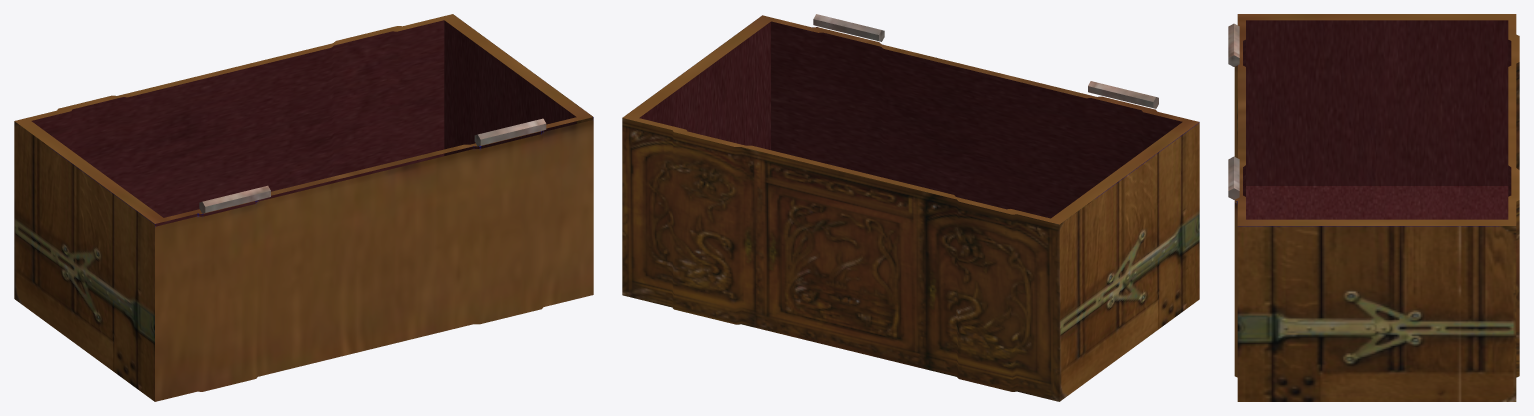
The model's file is PAST_LockedChest_BottomHalf 1.fbx.
3 renders of one model, left to right at view 1: azimuth 30°, elevation 25°; view 2: azimuth 150°, elevation 25°; view 3: azimuth 270°, elevation 25°, orthographic.
Visible parts, largest first — view 1: pasted__polySurface9; view 2: pasted__polySurface9; view 3: pasted__polySurface9.
Part boxes in pixels (<box>): pasted__polySurface9: <box>14,14,593,401</box>; pasted__polySurface9: <box>622,14,1199,401</box>; pasted__polySurface9: <box>1228,14,1519,401</box>.
Bounding box in the file's own units: 217 × 90.05 × 126.
1 material, 1 textured.
